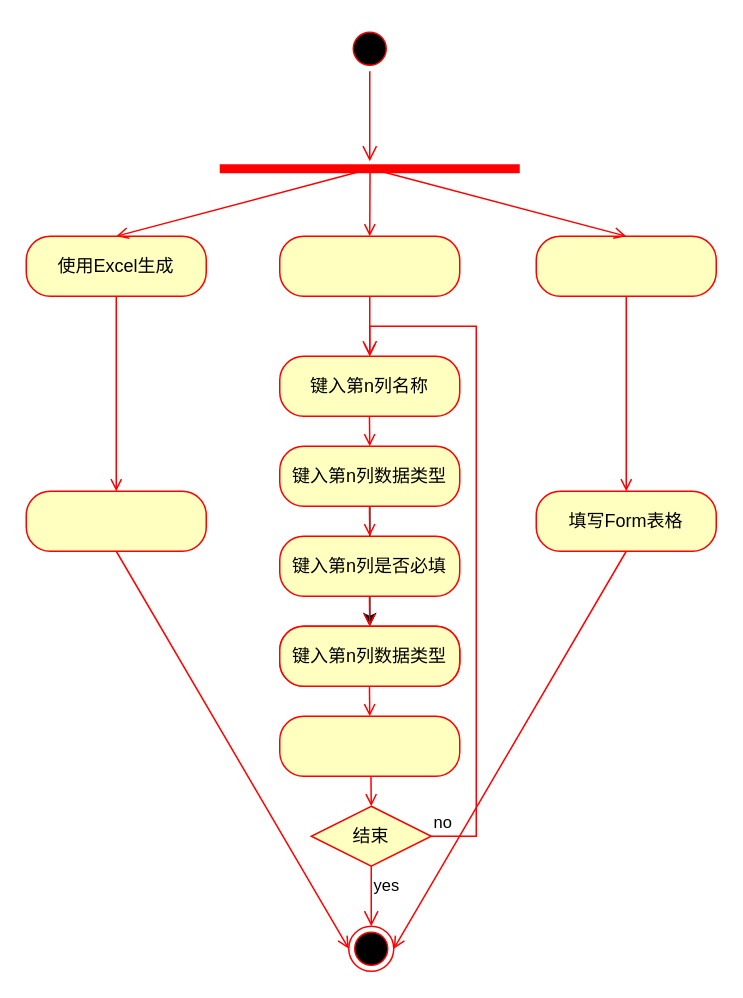
Some shapes in this 743 by 998 pixel diagram are drawn without their labels. Each missing label, with the centre of its shape:
"使用命令行生成" belongs at (x=369, y=265).
"使用网页生成" belongs at (x=625, y=265).
"填写Excel" belongs at (x=115, y=520).
"键入第n列样例" belongs at (x=369, y=745).
